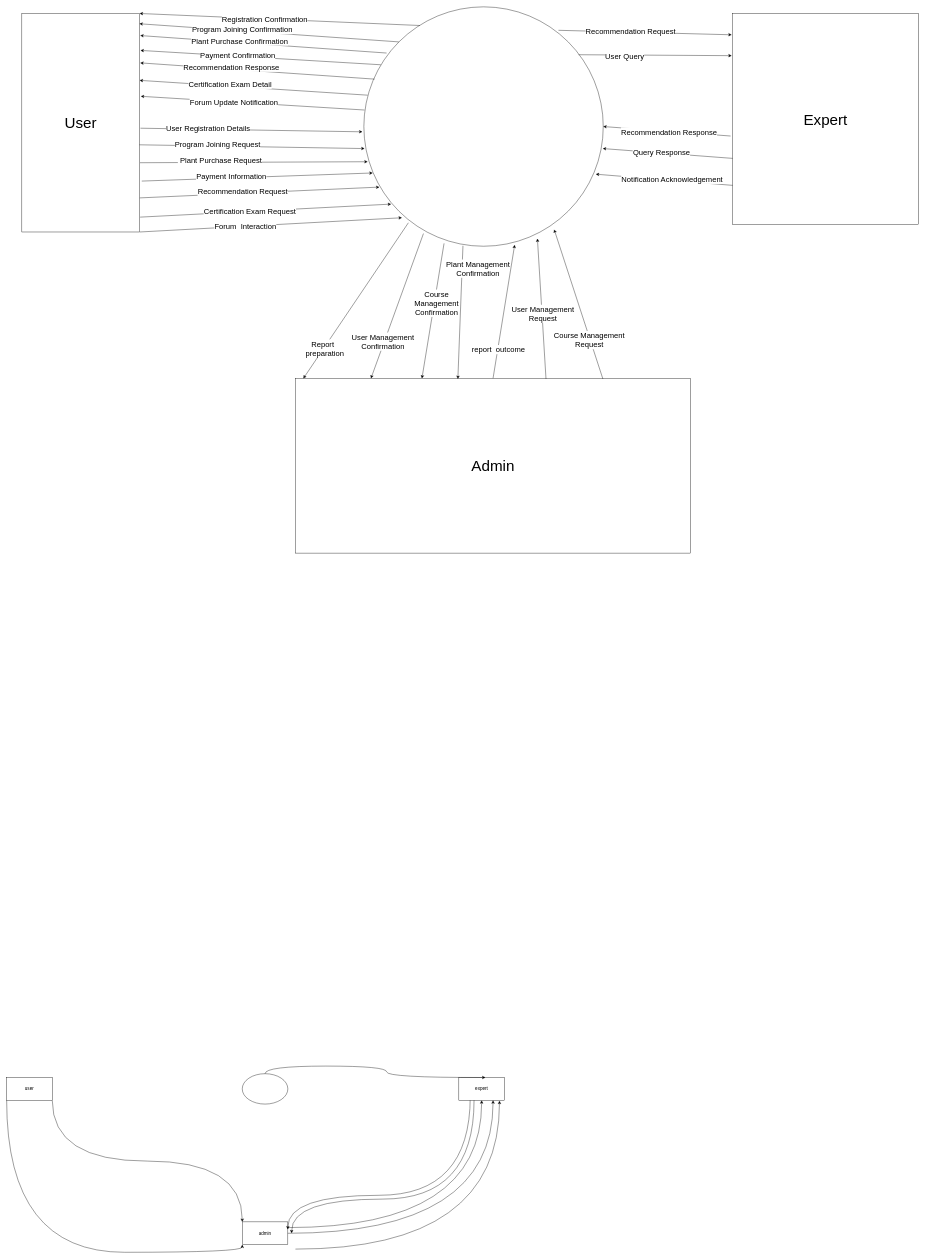
Image size: 925x1259. Some labels were removed from this diagram. Each missing label, with the centre of its shape:
Botanical Institute Management System: the point at 483,126
sparkle botanical: the point at 265,1088
